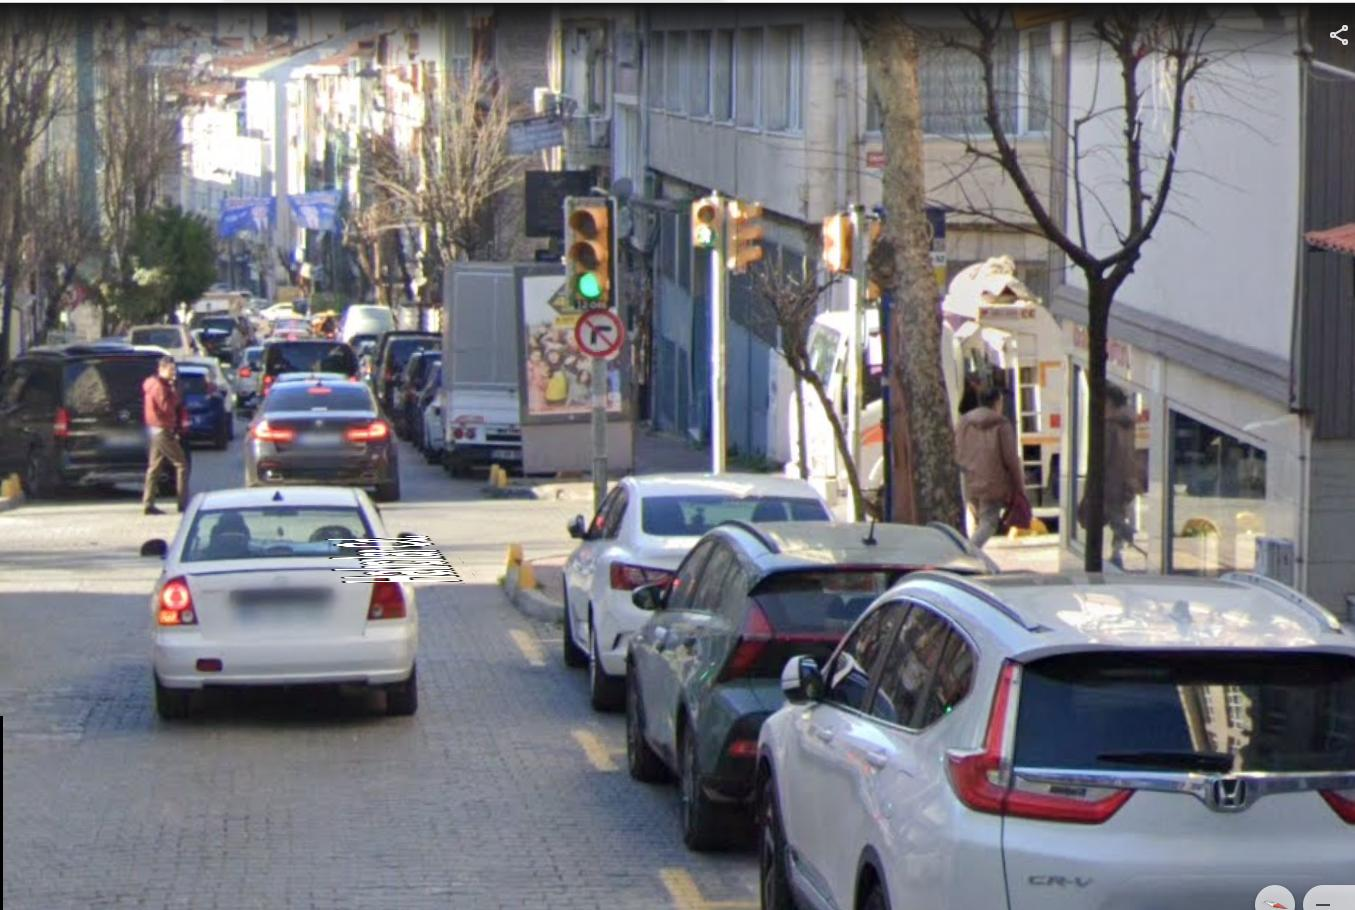greenlight: (566, 197, 608, 302)
rightturnsareforbidden: (575, 311, 624, 359)
